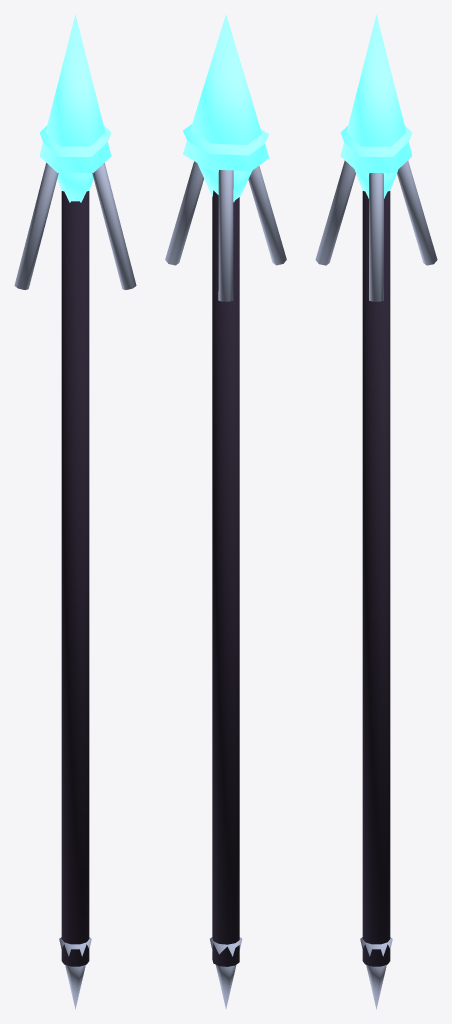
File: weapon_mago_ia.glb
The picture shows the model from 3 angles, left to right: view 1: azimuth 90°, elevation 25°; view 2: azimuth 150°, elevation 25°; view 3: azimuth 270°, elevation 25°; orthographic projection.
Visible parts, largest first — view 1: Cajado, CristalTopo, Espiral1, Espiral2, CristalBase, PonteiraBase; view 2: Cajado, CristalTopo, Espiral1, CristalBase, Espiral0, Espiral2, PonteiraBase; view 3: Cajado, CristalTopo, Espiral0, Espiral1, Espiral2, CristalBase, PonteiraBase.
Boxes of the visible parts, x1,y1,x2,y2 form: Cajado: [61, 191, 89, 966]; CristalTopo: [39, 14, 111, 172]; Espiral1: [14, 163, 58, 289]; Espiral2: [92, 163, 136, 289]; CristalBase: [39, 125, 111, 202]; PonteiraBase: [59, 937, 91, 1009]; Cajado: [212, 190, 239, 966]; CristalTopo: [183, 14, 269, 171]; Espiral1: [218, 170, 233, 301]; CristalBase: [183, 124, 269, 202]; Espiral0: [165, 161, 203, 265]; Espiral2: [248, 166, 286, 265]; PonteiraBase: [210, 937, 242, 1009]; Cajado: [362, 191, 390, 966]; CristalTopo: [340, 14, 412, 172]; Espiral0: [369, 173, 383, 301]; Espiral1: [397, 160, 437, 265]; Espiral2: [315, 160, 355, 265]; CristalBase: [340, 125, 412, 198]; PonteiraBase: [360, 937, 392, 1009].
Size of the model in its own units: 0.3301 by 3.36 by 0.3735.
